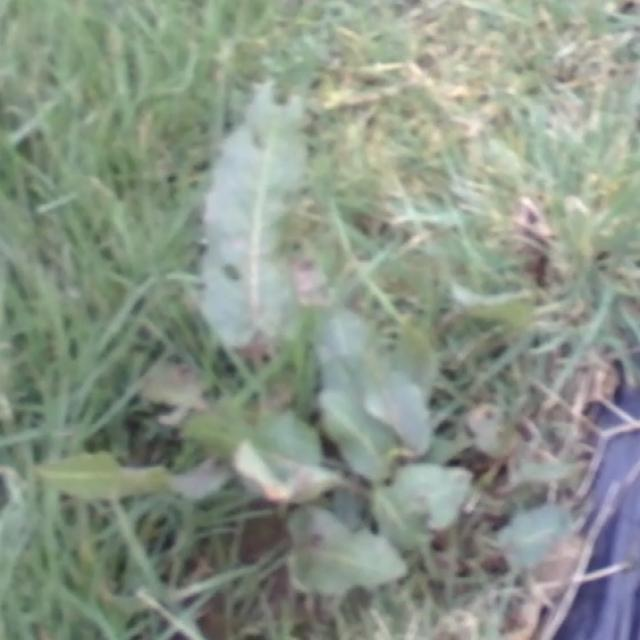organic waste: (156, 73, 570, 615), (193, 306, 554, 629), (16, 373, 331, 542)
